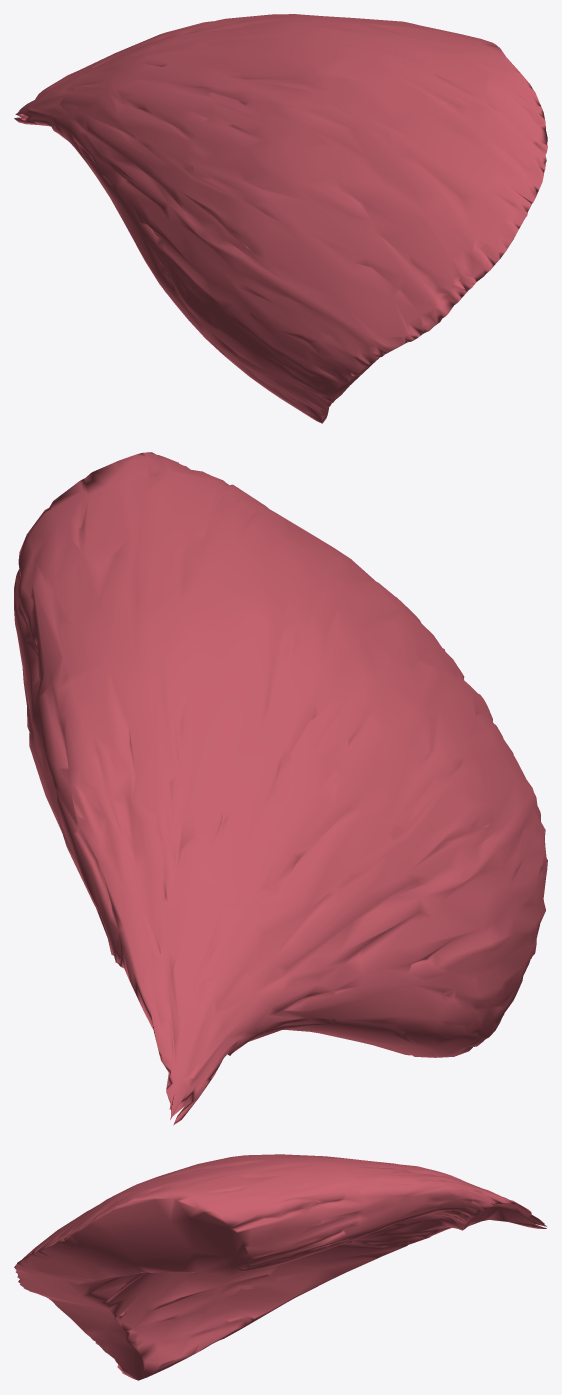
3 views of the same model, one above another, from view 1: azimuth 30°, elevation 25°; view 2: azimuth 150°, elevation 25°; view 3: azimuth 270°, elevation 25° (orthographic). The views are drawn at different scales.
Visible parts, largest first — view 1: 右侧臀中肌; view 2: 右侧臀中肌; view 3: 右侧臀中肌.
Part boxes in pixels (x1,y1,x2,y2): 右侧臀中肌: [14, 14, 547, 423]; 右侧臀中肌: [14, 452, 547, 1125]; 右侧臀中肌: [14, 1154, 546, 1380].
Bounding box in the file's own units: 0.1313 × 0.135 × 0.2476.
